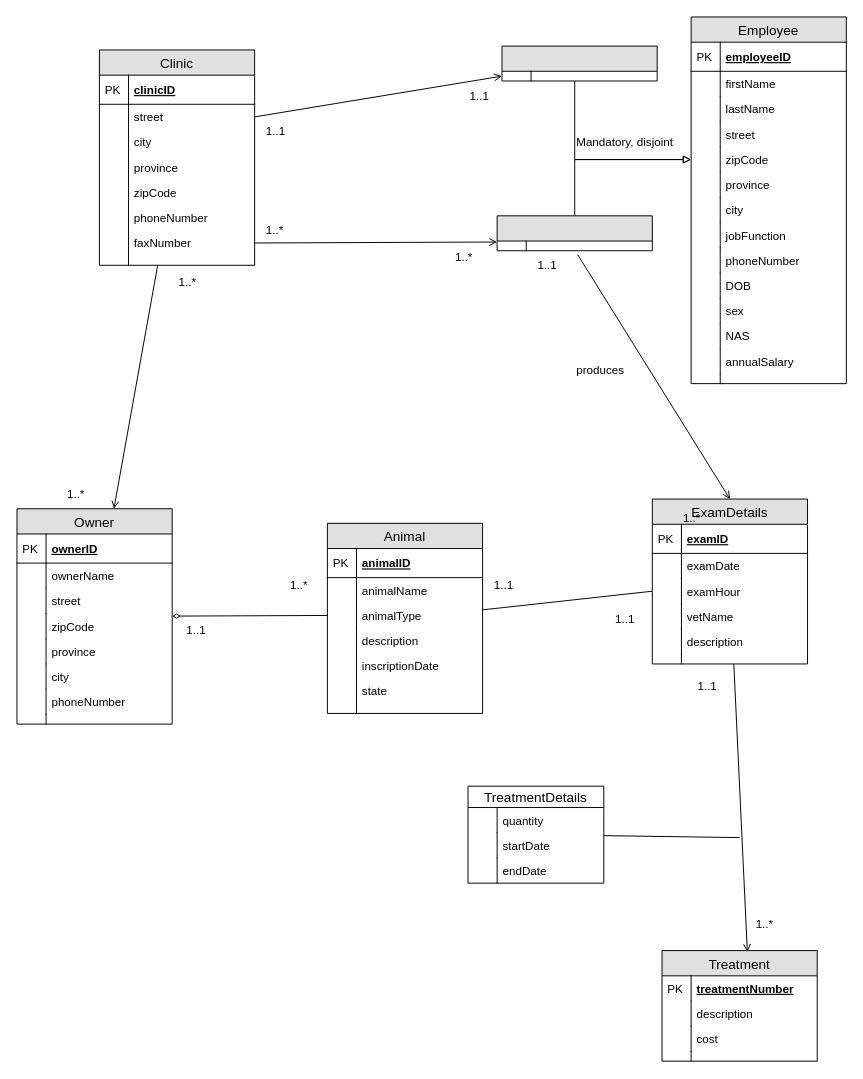
Some shapes in this 863 by 1079 pixel diagram are drawn without their labels. The centre of each missing label's shape, as x and y in pixels:
"Manager" goes at point (579, 63).
"Veterinarian" goes at point (574, 233).
